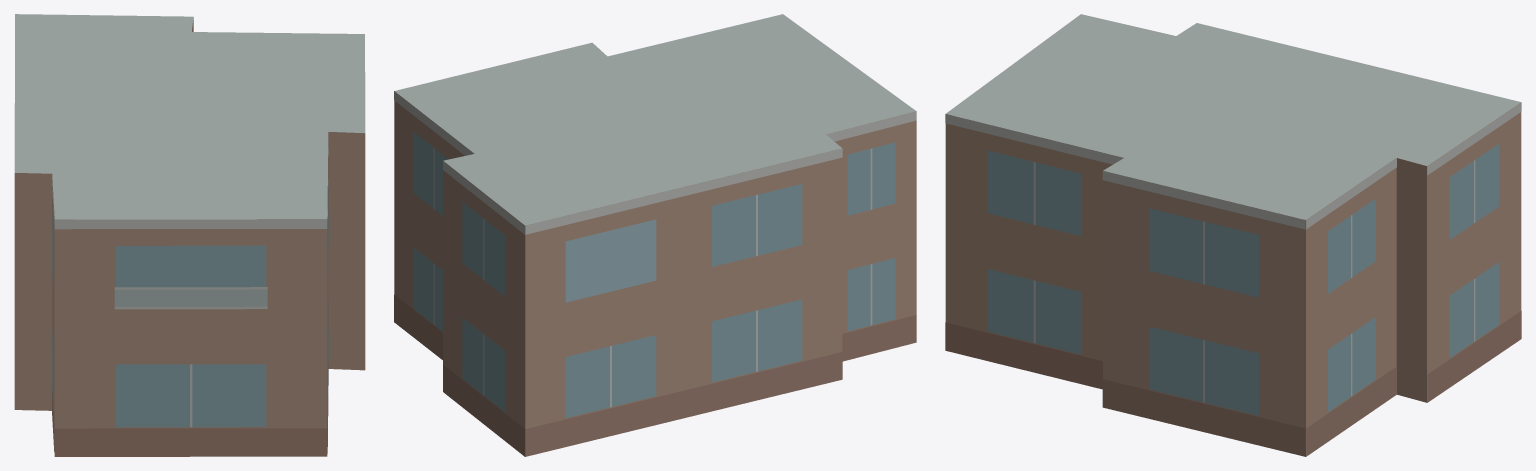
File: survey-upis-32780249.glb
3 renders of one model, left to right at view 1: azimuth 30°, elevation 25°; view 2: azimuth 150°, elevation 25°; view 3: azimuth 270°, elevation 25°, orthographic. The views are drawn at different scales.
Parts seen in each view (by area): view 1: survey-upis-32780249.tmp; view 2: survey-upis-32780249.tmp; view 3: survey-upis-32780249.tmp.
Boxes of the visible parts, x1,y1,x2,y2 form: survey-upis-32780249.tmp: (14, 14, 365, 456); survey-upis-32780249.tmp: (394, 14, 916, 456); survey-upis-32780249.tmp: (945, 14, 1521, 456).
Bounding box in the file's own units: 11.4 × 6.1 × 13.46.
